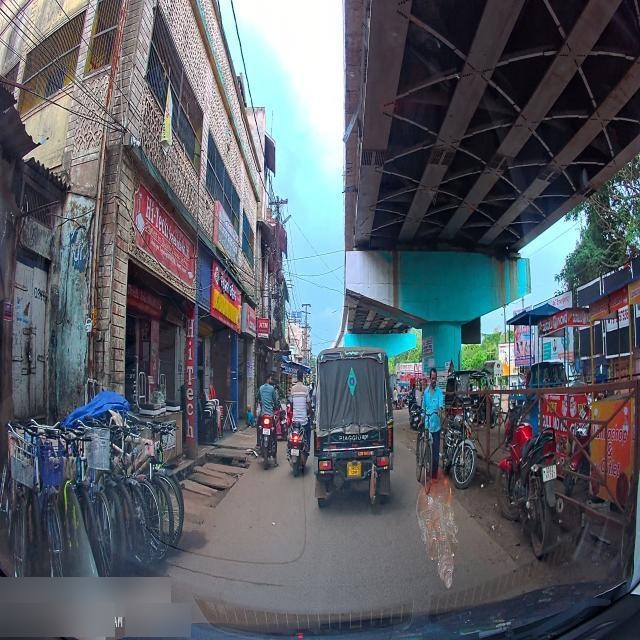pothole: (189, 466, 236, 489), (212, 448, 247, 474)
